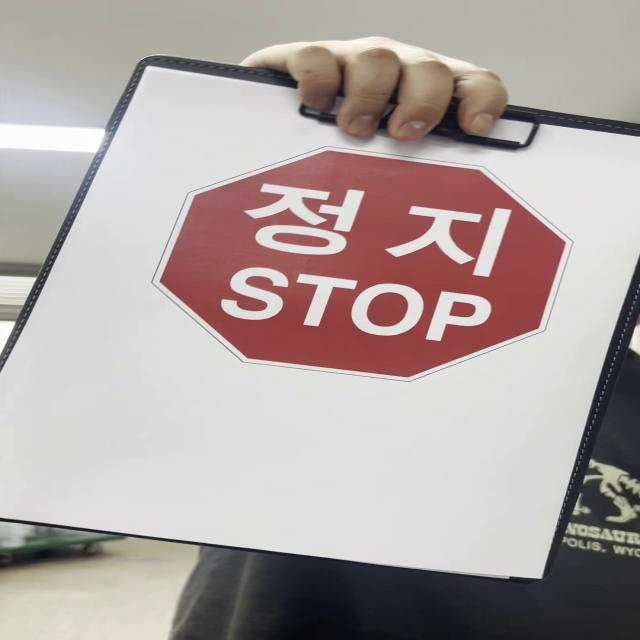stop: (146, 147, 577, 385)
